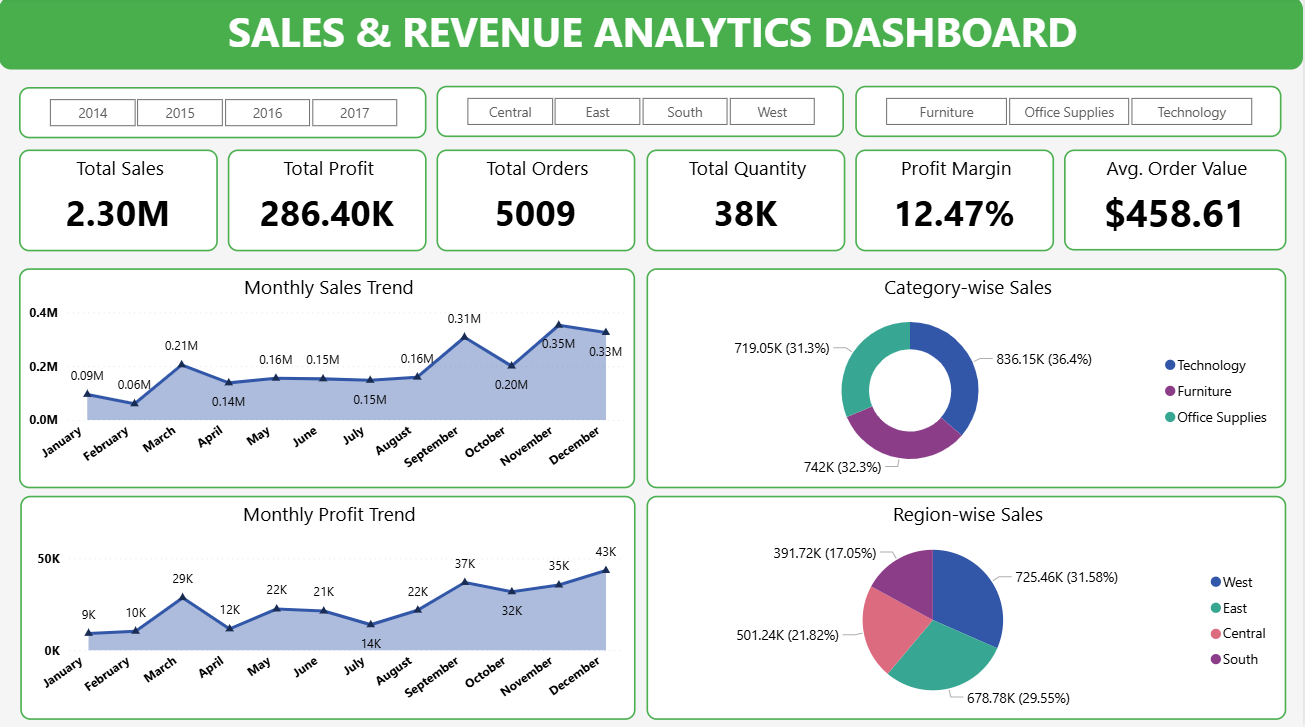

This screenshot's page, from the dashboard's own definition file:
{"tool":"powerbi","page":{"name":"Executive Dashboard","canvas":[1280,720],"ordinal":0},"visuals":[{"type":"shape","box":[20,85,350,46],"z":0},{"type":"shape","box":[760,85,350,46],"z":500},{"type":"shape","box":[390,85,350,46],"z":1000},{"type":"card","title":"Total Sales","fields":{"Values":["Sales.Total Sales"]},"box":[20,150,195,100],"z":2000},{"type":"card","title":"Total Profit","fields":{"Values":["Sales.Total Profit"]},"box":[225,150,195,100],"z":3000},{"type":"card","title":"Total Orders","fields":{"Values":["Sales.Total Orders"]},"box":[430,150,195,100],"z":4000},{"type":"card","title":"Total Quantity","fields":{"Values":["Sales.Total Quantity"]},"box":[635,150,195,100],"z":5000},{"type":"card","title":"Profit Margin ","fields":{"Values":["Sales.Profit Margin"]},"box":[840,150,195,100],"z":6000},{"type":"card","title":"Avg. Order Value","fields":{"Values":["Sales.Average Order Value"]},"box":[1045.4,149.7,218.4,99.4],"z":7000},{"type":"textbox","title":"SALES & REVENUE ANALYTICS DASHBOARD","box":[0,0,1279.8,71.2],"z":8000},{"type":"slicer","fields":{"Values":["DateTable.Year"]},"box":[111.7,88.3,238,39.3],"z":9000},{"type":"slicer","fields":{"Values":["Sales.Region"]},"box":[479.8,87.1,236.8,39.3],"z":10000},{"type":"slicer","fields":{"Values":["Sales.Category"]},"box":[847.9,87.1,241.7,42.9],"z":11000},{"type":"areaChart","title":"Monthly Sales Trend","fields":{"Category":["DateTable.Month"],"Y":["Sales.Total Sales"]},"box":[20,266.2,605,216.2],"z":12000},{"type":"areaChart","title":"Monthly Profit Trend","fields":{"Category":["DateTable.Month"],"Y":["Sales.Total Profit"]},"box":[20.6,490,603.8,220],"z":13000},{"type":"pieChart","title":"Region-wise Sales","fields":{"Category":["Sales.Region"],"Y":["Sales.Total Sales"]},"box":[635,490,628,220],"z":14000},{"type":"donutChart","title":"Category-wise Sales","fields":{"Category":["Sales.Category"],"Y":["Sales.Total Sales"]},"box":[635.6,266.3,628.2,216],"z":15000},{"type":"textbox","title":"Year","box":[34,97,55,20],"z":16000},{"type":"textbox","title":"Region","box":[400,96,64,32],"z":17000},{"type":"textbox","title":"Category","box":[768,96,96,32],"z":18000}]}

Visuals, with their boxes in screenshot pixels (x1, y1, x2, y2), scaled from the page's 1280x720 canvas onto the 1305x727 screenshot:
shape: <region>20, 86, 377, 132</region>
shape: <region>775, 86, 1132, 132</region>
shape: <region>398, 86, 754, 132</region>
"Total Sales" card: <region>20, 151, 219, 252</region>
"Total Profit" card: <region>229, 151, 428, 252</region>
"Total Orders" card: <region>438, 151, 637, 252</region>
"Total Quantity" card: <region>647, 151, 846, 252</region>
"Profit Margin " card: <region>856, 151, 1055, 252</region>
"Avg. Order Value" card: <region>1066, 151, 1288, 252</region>
"SALES & REVENUE ANALYTICS DASHBOARD" textbox: <region>0, 0, 1304, 72</region>
slicer - DateTable.Year: <region>114, 89, 357, 129</region>
slicer - Sales.Region: <region>489, 88, 731, 128</region>
slicer - Sales.Category: <region>864, 88, 1111, 131</region>
"Monthly Sales Trend" areaChart: <region>20, 269, 637, 487</region>
"Monthly Profit Trend" areaChart: <region>21, 495, 637, 717</region>
"Region-wise Sales" pieChart: <region>647, 495, 1288, 717</region>
"Category-wise Sales" donutChart: <region>648, 269, 1288, 487</region>
"Year" textbox: <region>35, 98, 91, 118</region>
"Region" textbox: <region>408, 97, 473, 129</region>
"Category" textbox: <region>783, 97, 881, 129</region>
